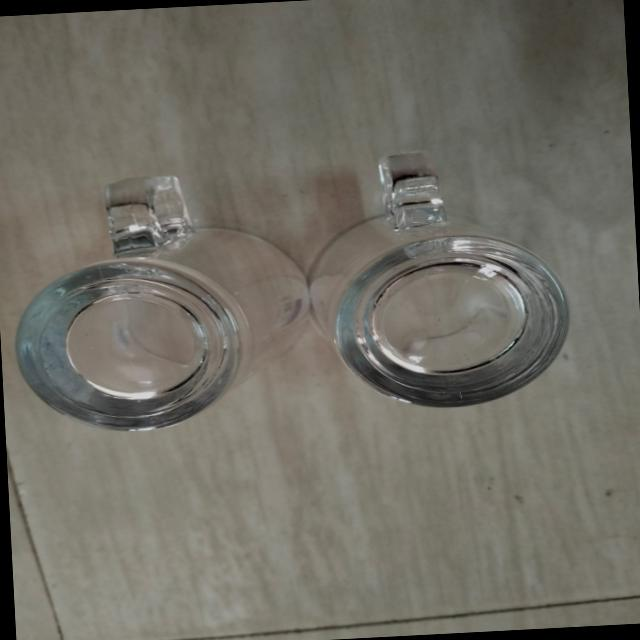glass-VX4N: (8, 166, 300, 436), (301, 168, 584, 416)
